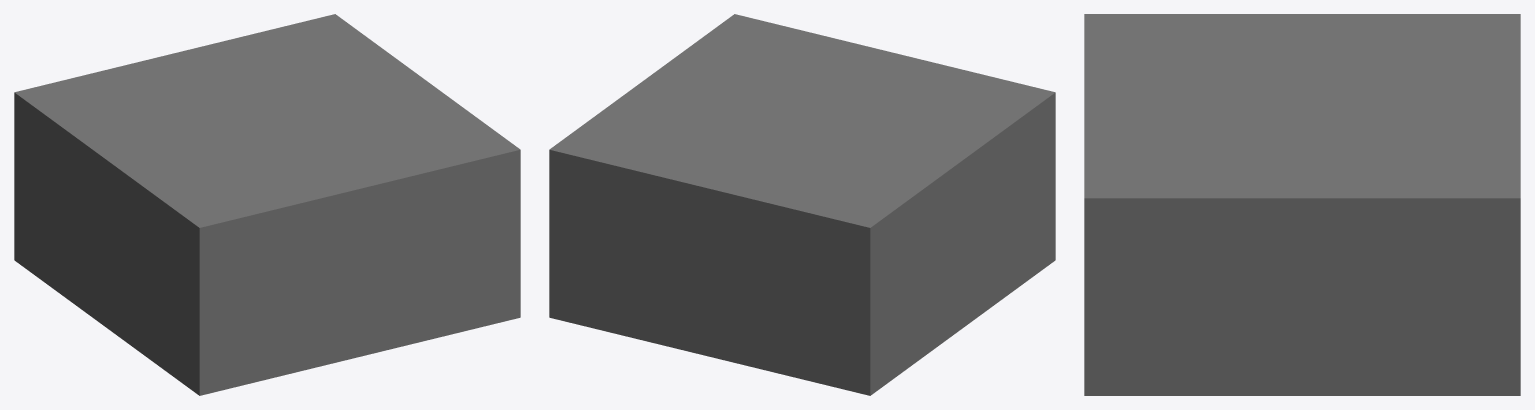
File: Stone_Half.glb
3 renders of one model, left to right at view 1: azimuth 30°, elevation 25°; view 2: azimuth 150°, elevation 25°; view 3: azimuth 270°, elevation 25°, orthographic. The views are drawn at different scales.
Parts seen in each view (by area): view 1: Stone_Half_body; view 2: Stone_Half_body; view 3: Stone_Half_body.
Boxes of the visible parts, left/top/right/bottom form: Stone_Half_body: left=14, top=14, right=520, bottom=395; Stone_Half_body: left=549, top=14, right=1055, bottom=395; Stone_Half_body: left=1084, top=14, right=1520, bottom=395.
Size of the model in its own units: 1 by 0.5 by 1.
1 material, 1 textured.
